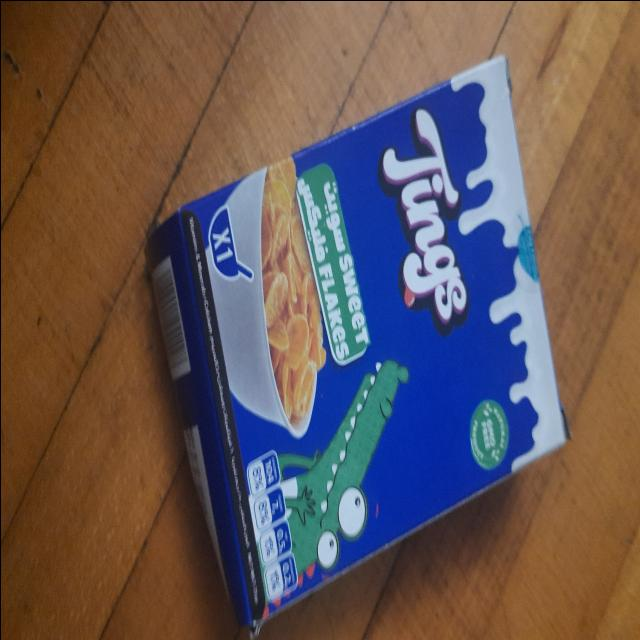cardboard: (143, 39, 588, 640)
